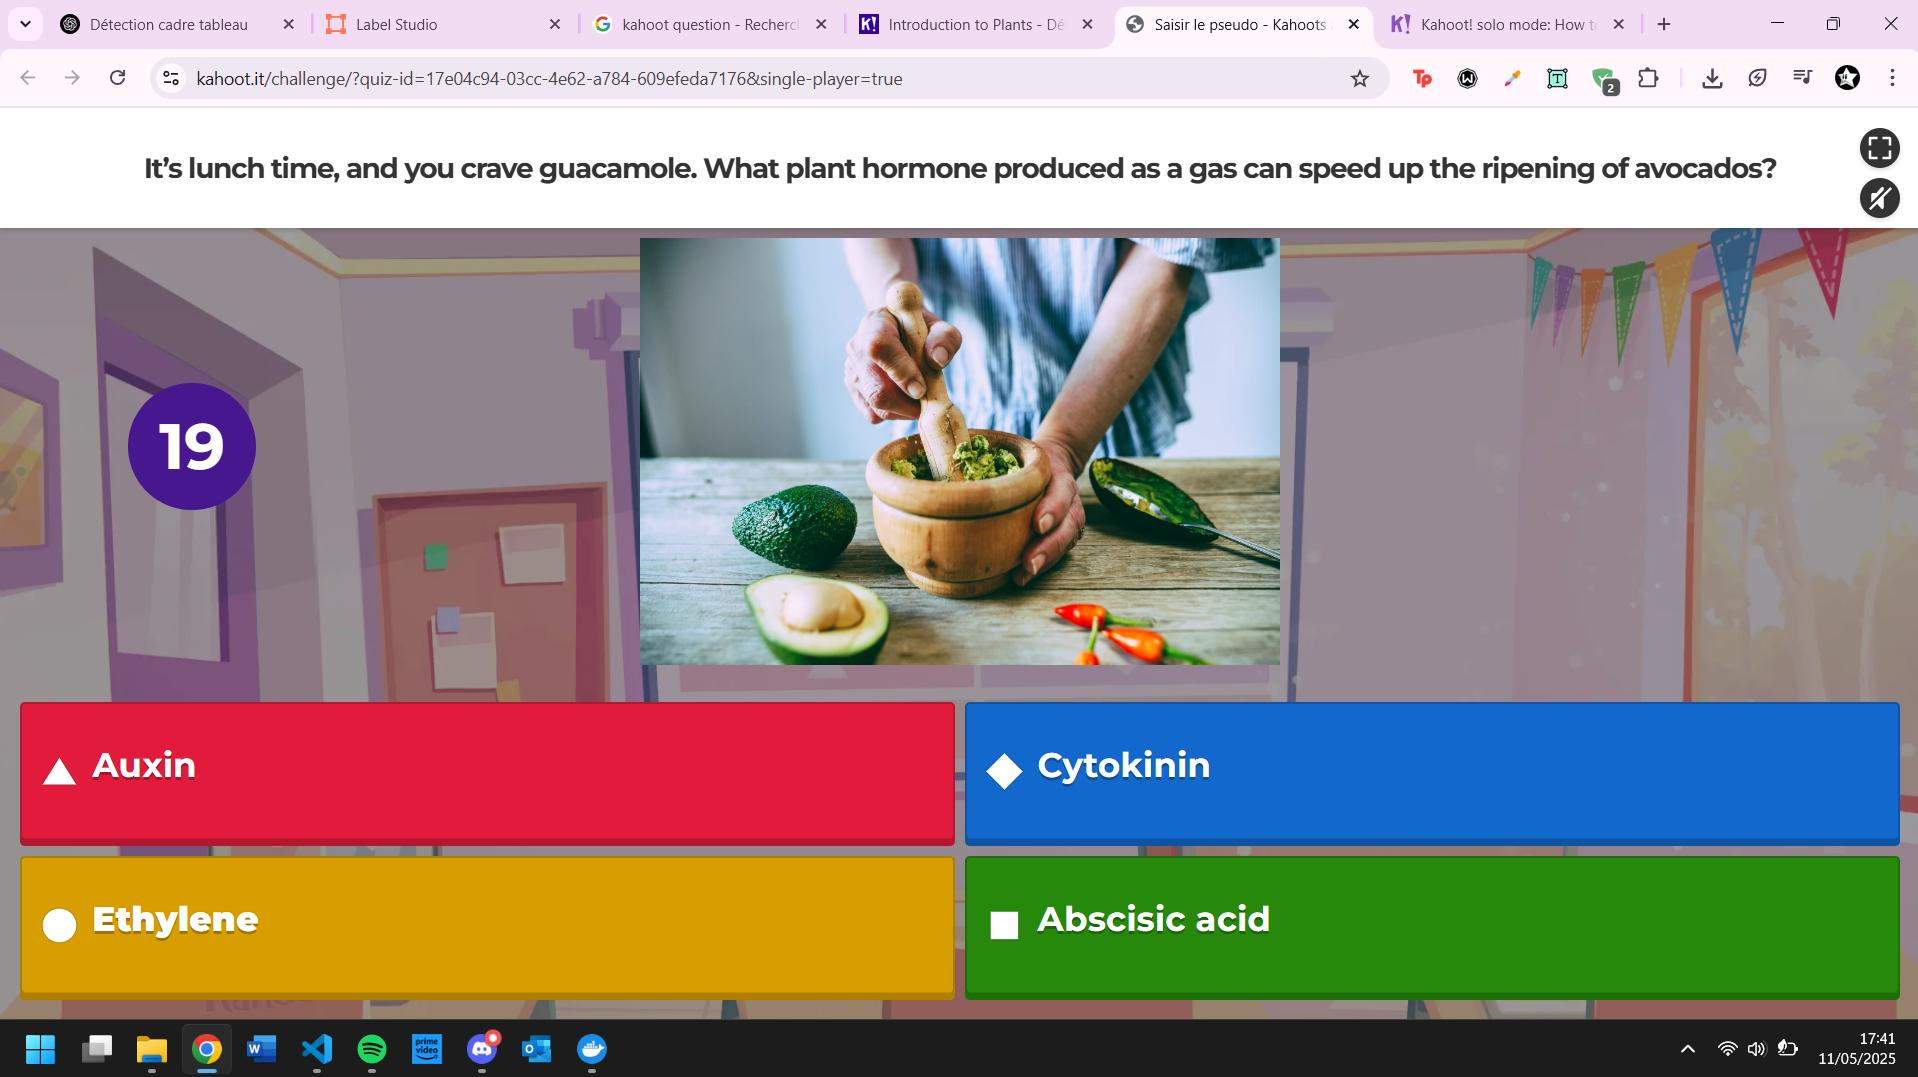answer_blue: (962, 707, 1897, 841)
answer_green: (968, 860, 1897, 997)
answer_red: (21, 702, 951, 843)
answer_yellow: (24, 860, 950, 997)
question_box: (3, 111, 1847, 230)
